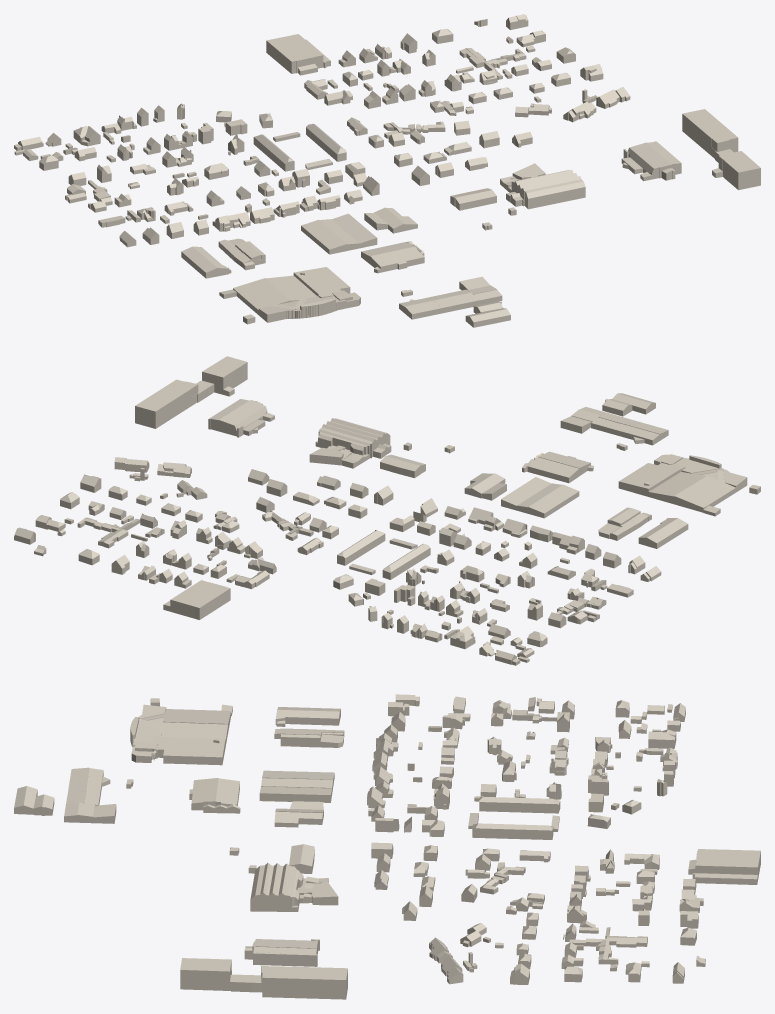
The picture shows the model from 3 angles, top to bottom: view 1: azimuth 30°, elevation 25°; view 2: azimuth 150°, elevation 25°; view 3: azimuth 270°, elevation 25°; orthographic projection. The views are drawn at different scales.
Bounding box in the file's own units: 455 × 15.96 × 477.
